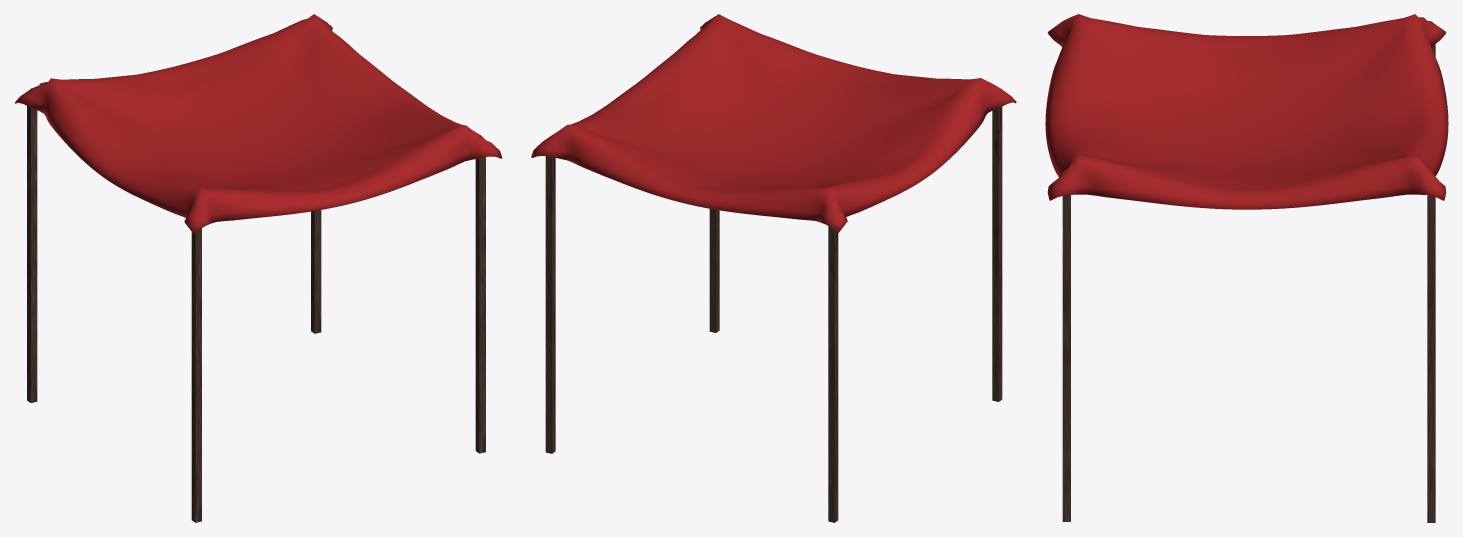
File: fixed norm big tarp textured.fbx
The picture shows the model from 3 angles, left to right: view 1: azimuth 30°, elevation 25°; view 2: azimuth 150°, elevation 25°; view 3: azimuth 270°, elevation 25°; orthographic projection. The views are drawn at different scales.
Visible parts, largest first — view 1: Plane.009; view 2: Plane.009; view 3: Plane.009.
Part boxes in pixels (box(x1,y1,x2,y2)): Plane.009: box(14, 14, 502, 522); Plane.009: box(531, 14, 1016, 522); Plane.009: box(1045, 14, 1448, 522).
Bounding box in the file's own units: 433 × 433 × 427.
Materials: 2 (1 with a texture image).
